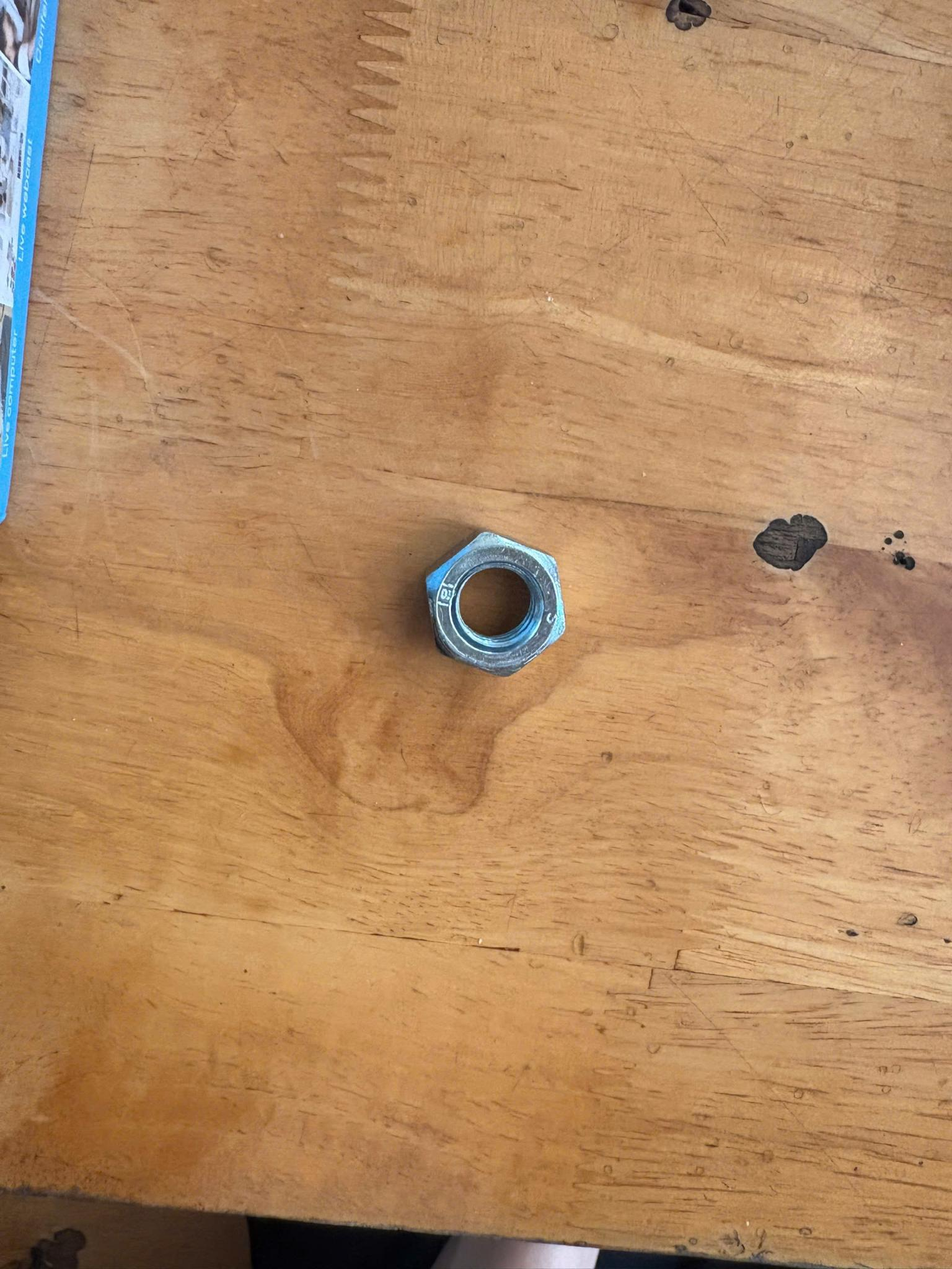nut: (394, 504, 601, 708)
